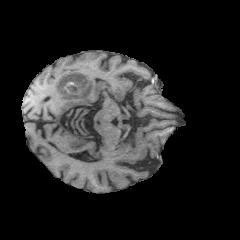glioma: (55, 70, 104, 99)
